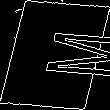M_W: (6, 29, 104, 81)
